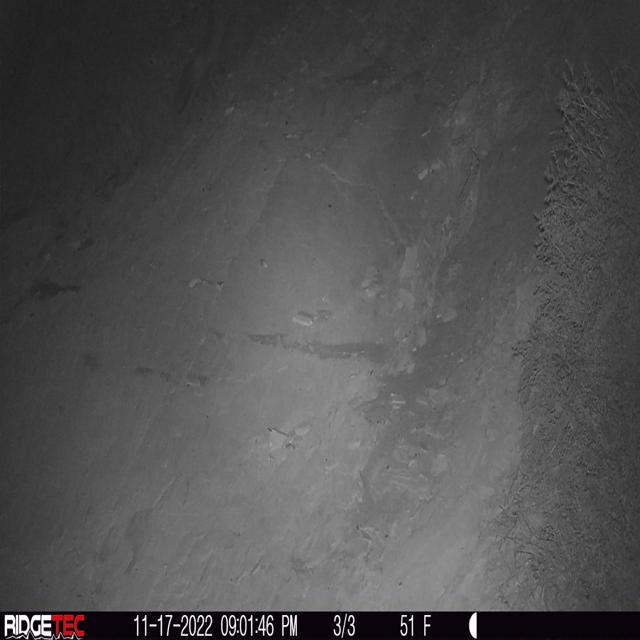coyote: (172, 1, 231, 116)
